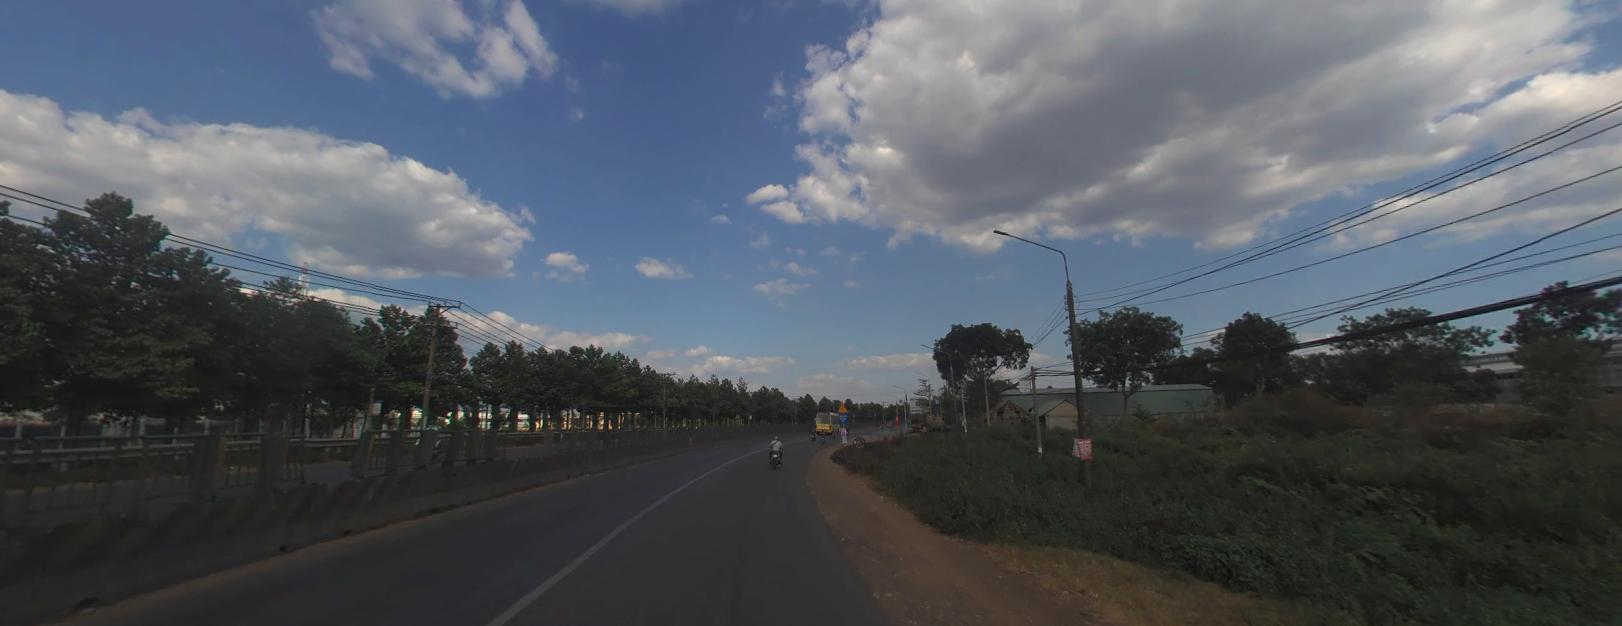Nguy hiem: (835, 401, 848, 411)
